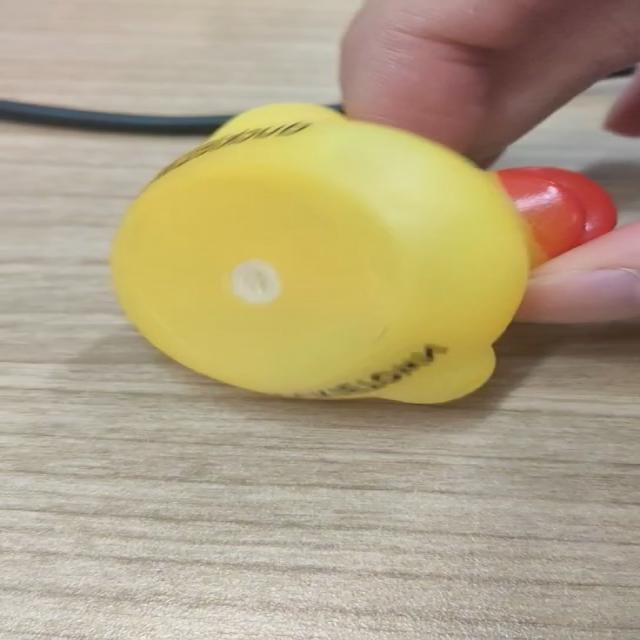rubber-duck: (110, 103, 613, 401)
